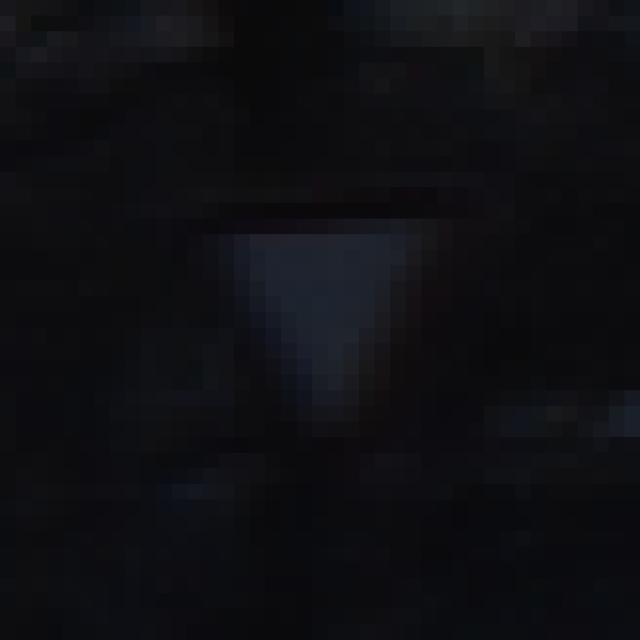Give Way: (95, 95, 563, 563)
